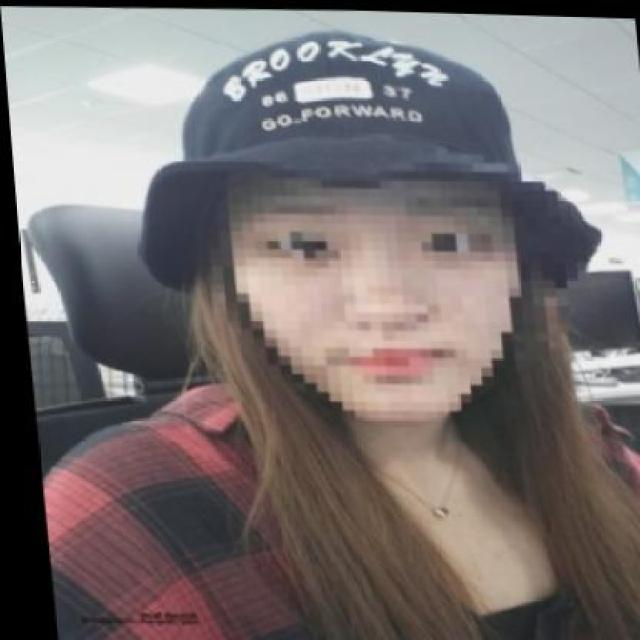hat: (134, 26, 594, 297)
